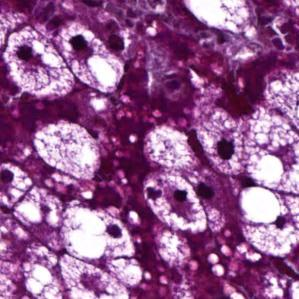ballooning: (52, 18, 130, 96), (2, 23, 78, 101), (140, 168, 211, 236), (238, 184, 299, 257)
